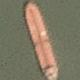ship: (0, 0, 5, 40)
